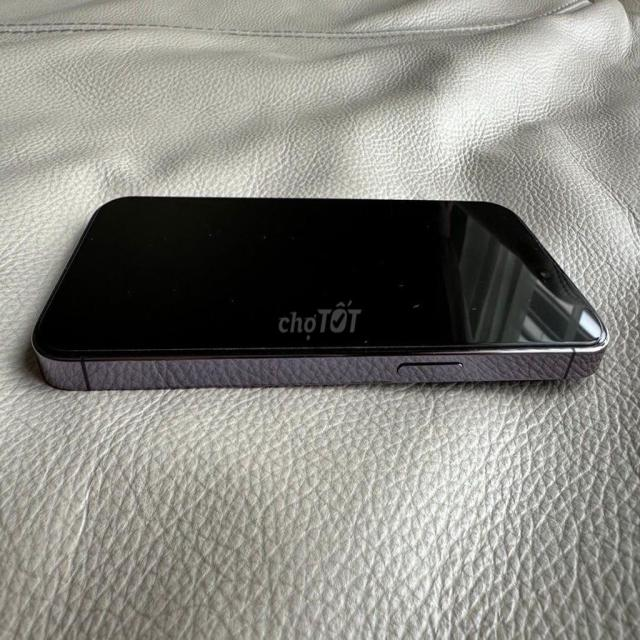scratch: (530, 240, 553, 294), (301, 331, 372, 344), (409, 296, 422, 320), (469, 296, 479, 316)
